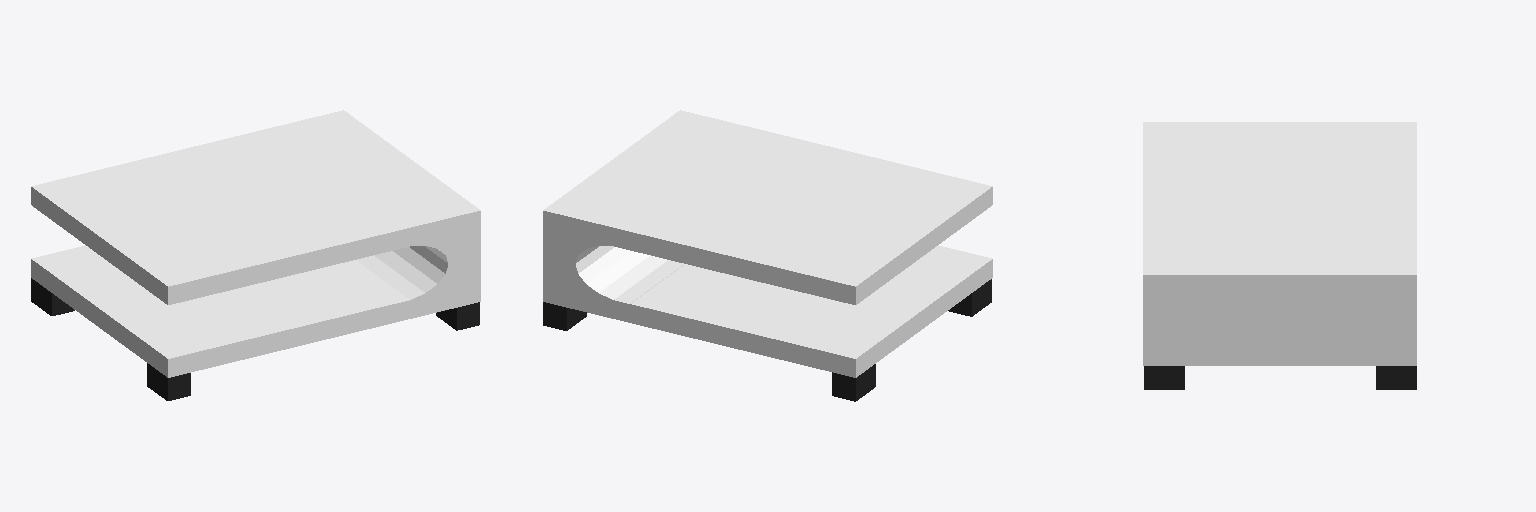
File: tvStand.obj
3 views of the same model, side by side, from view 1: azimuth 30°, elevation 25°; view 2: azimuth 150°, elevation 25°; view 3: azimuth 270°, elevation 25° (orthographic).
Parts seen in each view (by area): view 1: Box001, Box003, Box004, Box006; view 2: Box001, Box006, Box005, Box003; view 3: Box001, Box004, Box005.
Boxes of the visible parts, x1,y1,x2,y2 form: Box001: [31, 110, 480, 377]; Box003: [147, 363, 190, 400]; Box004: [436, 302, 479, 330]; Box006: [31, 278, 74, 315]; Box001: [543, 110, 992, 377]; Box006: [832, 364, 875, 401]; Box005: [543, 302, 586, 330]; Box003: [948, 279, 991, 316]; Box001: [1143, 122, 1416, 365]; Box004: [1144, 366, 1184, 389]; Box005: [1376, 366, 1416, 389].
Bounding box in the file's own units: 22.98 × 8.08 × 17.45.